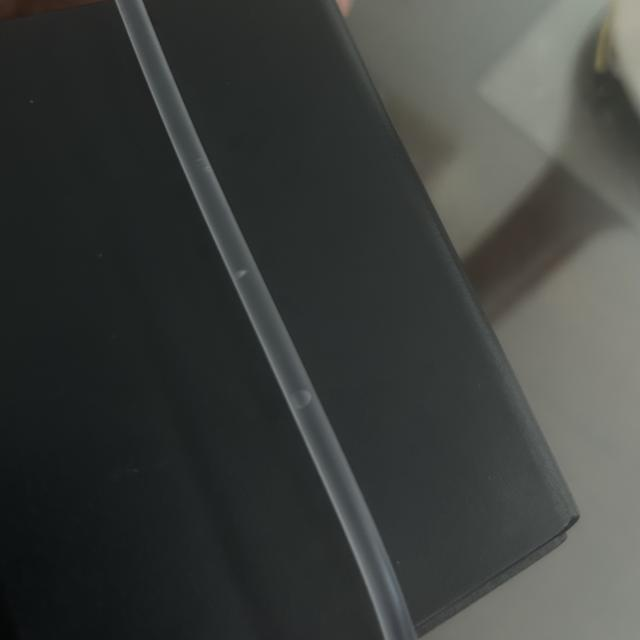bubble: (280, 387, 316, 408), (234, 260, 250, 284)
